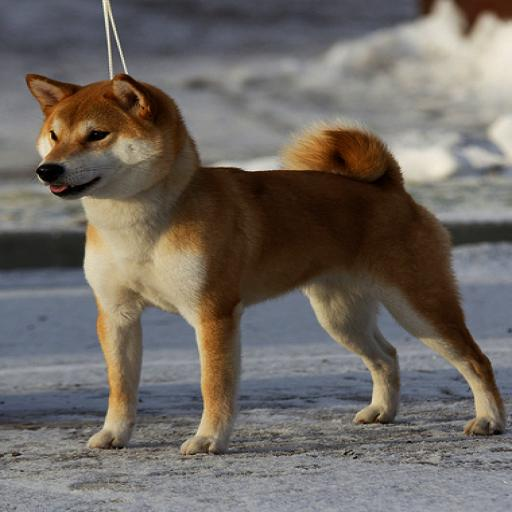dog_face: (15, 73, 176, 210)
